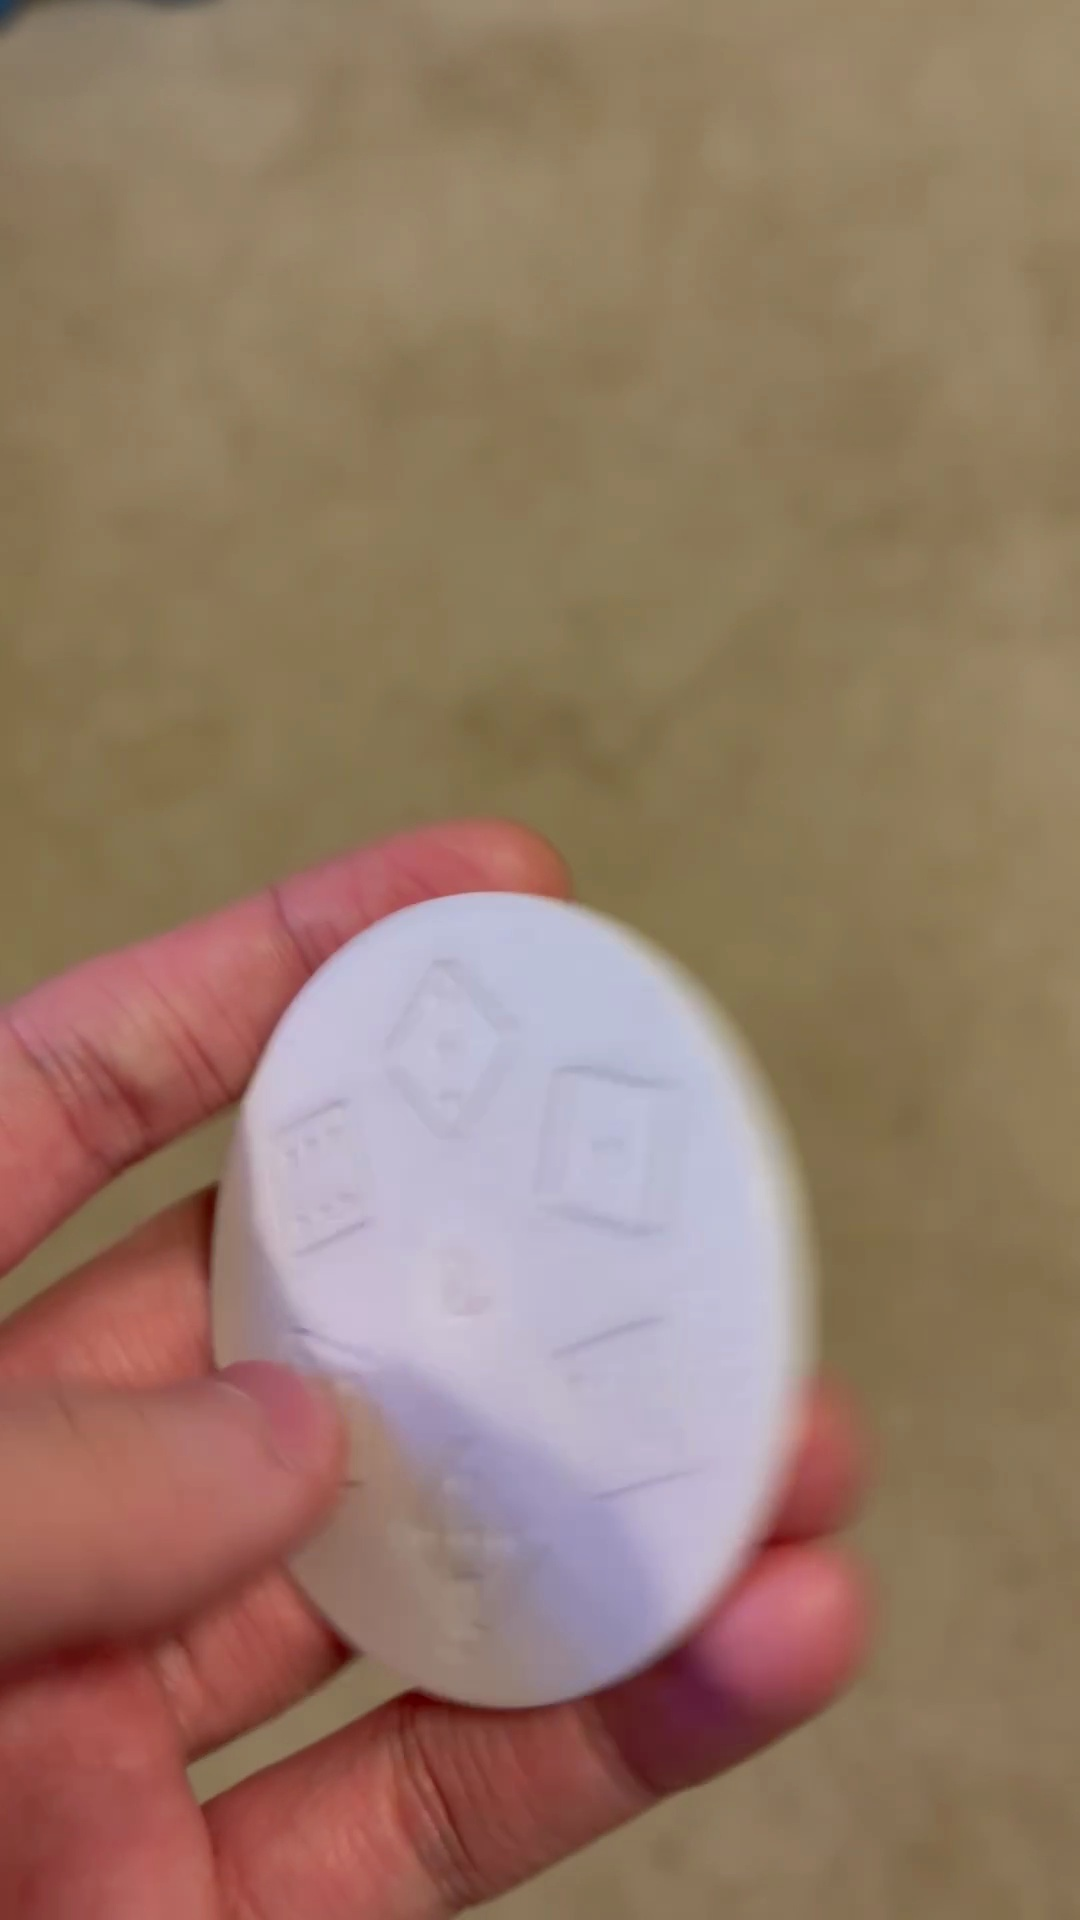Part1: (212, 894, 812, 1708)
